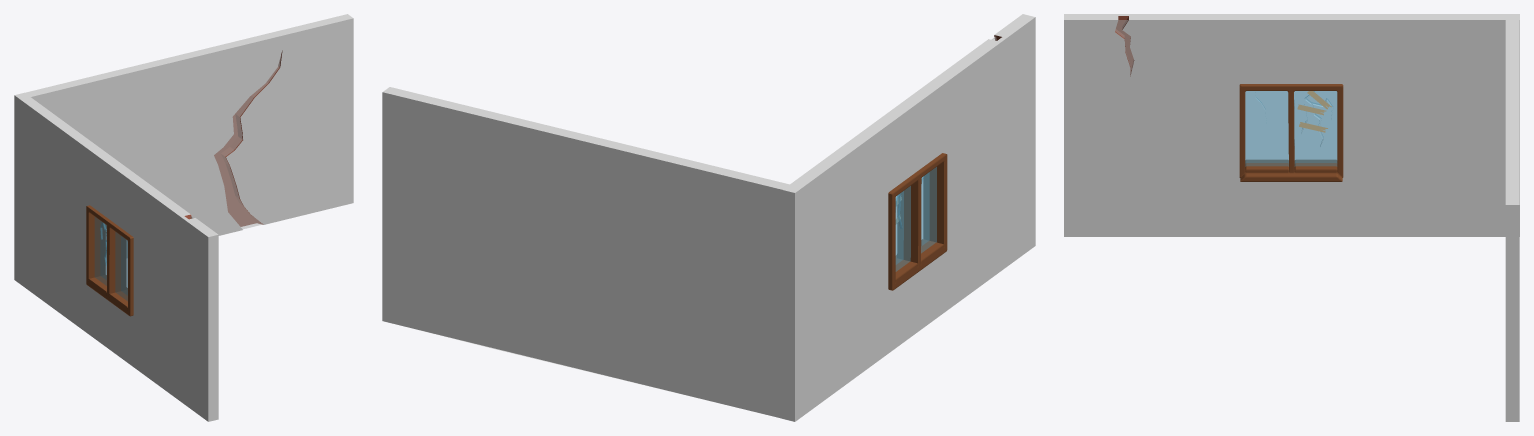
File: walls_tier2.fbx
The picture shows the model from 3 angles, left to right: view 1: azimuth 30°, elevation 25°; view 2: azimuth 150°, elevation 25°; view 3: azimuth 270°, elevation 25°; orthographic projection. The views are drawn at different scales.
Parts seen in each view (by area): view 1: Cube.007, Cube, Cube.002, Plane, Cube.003; view 2: Cube.007, Cube, Cube.002, Cube.003; view 3: Cube, Cube.003, Cube.007, Cube.002.
Part boxes in pixels (bbox=[...]): Cube.007: bbox=[24, 14, 353, 260]; Cube: bbox=[14, 92, 218, 421]; Cube.002: bbox=[86, 205, 133, 316]; Plane: bbox=[214, 55, 281, 229]; Cube.003: bbox=[95, 217, 127, 300]; Cube.007: bbox=[382, 87, 789, 418]; Cube: bbox=[782, 14, 1035, 421]; Cube.002: bbox=[888, 153, 947, 290]; Cube.003: bbox=[895, 167, 936, 271]; Cube: bbox=[1064, 14, 1519, 236]; Cube.003: bbox=[1245, 91, 1337, 166]; Cube.007: bbox=[1505, 19, 1519, 421]; Cube.002: bbox=[1239, 84, 1343, 181].
Size of the model in its own units: 659 by 348 by 658.
